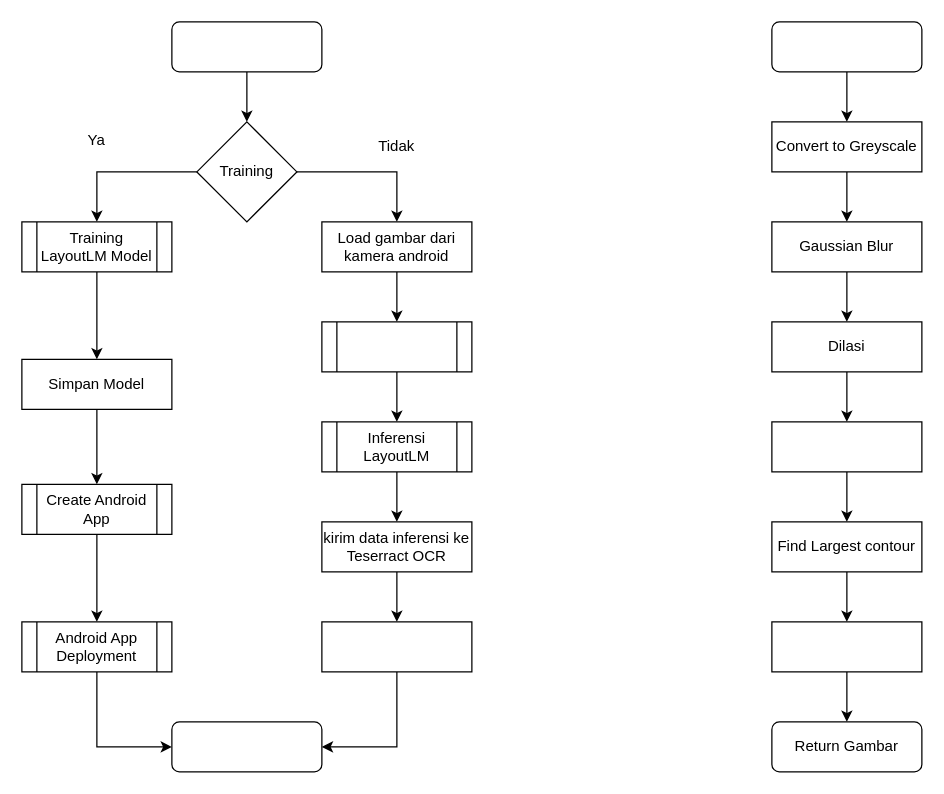
This 944x794 diagram has some shape labels left out. The box of each missing label's shape, as (x1, y1, x2, y2) in pixels:
crop and rotate gambar: (771, 621, 922, 672)
Edge Detection: (771, 421, 922, 472)
End: (171, 721, 322, 772)
Pre Processing: (771, 21, 922, 72)
Pre Processing gambar: (321, 321, 472, 372)
Simpan data hasil OCR kedalam SQLite: (321, 621, 472, 672)
Start: (171, 21, 322, 72)
